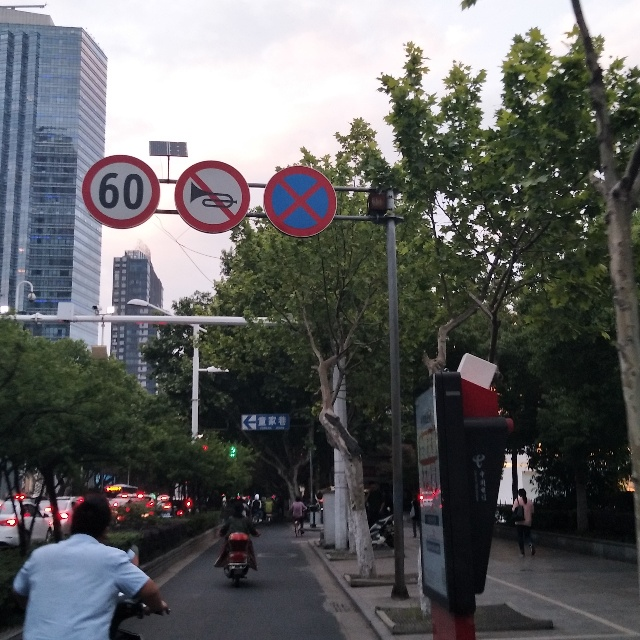nohonk: (175, 160, 250, 234)
stop: (264, 166, 338, 238)
